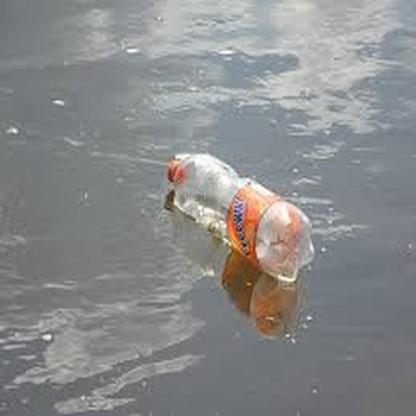plastic bottle: (165, 155, 315, 284)
